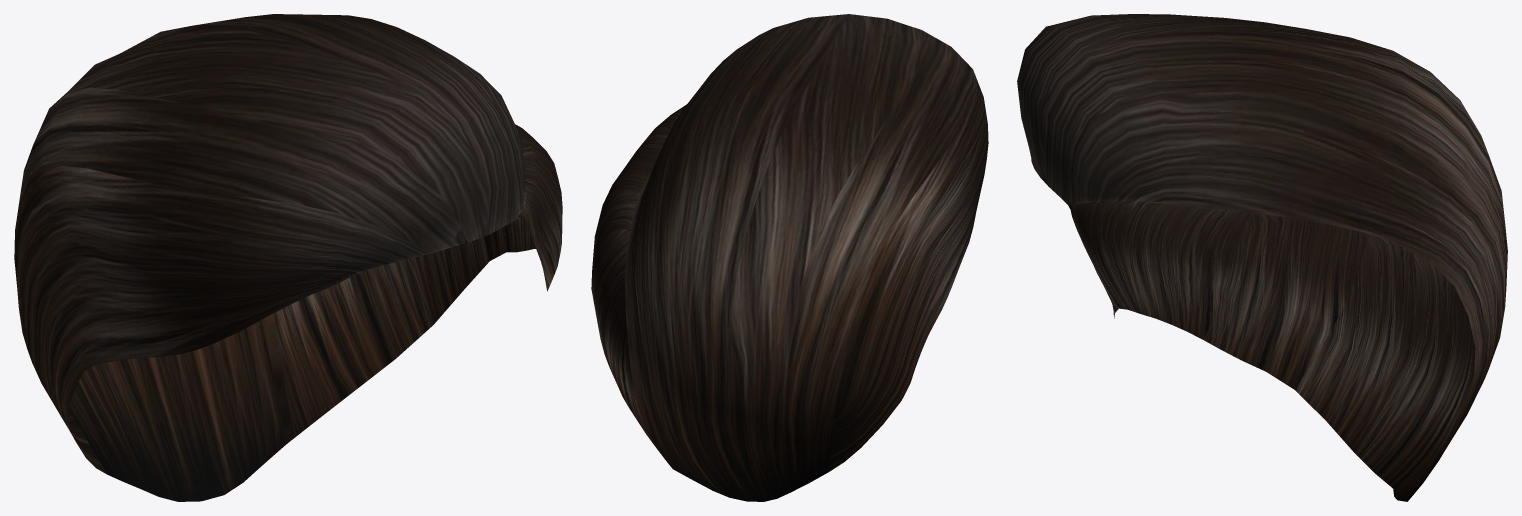
The model's file is hair1.fbx.
3 views of the same model, side by side, from view 1: azimuth 30°, elevation 25°; view 2: azimuth 150°, elevation 25°; view 3: azimuth 270°, elevation 25° (orthographic). The views are drawn at different scales.
Parts seen in each view (by area): view 1: hair_man; view 2: hair_man; view 3: hair_man.
Part boxes in pixels (x1,y1,x2,y2): hair_man: [14, 14, 562, 501]; hair_man: [591, 14, 988, 501]; hair_man: [1017, 14, 1507, 501].
Bounding box in the file's own units: 0.1629 × 0.1972 × 0.1907.
Materials: 1 (1 with a texture image).
